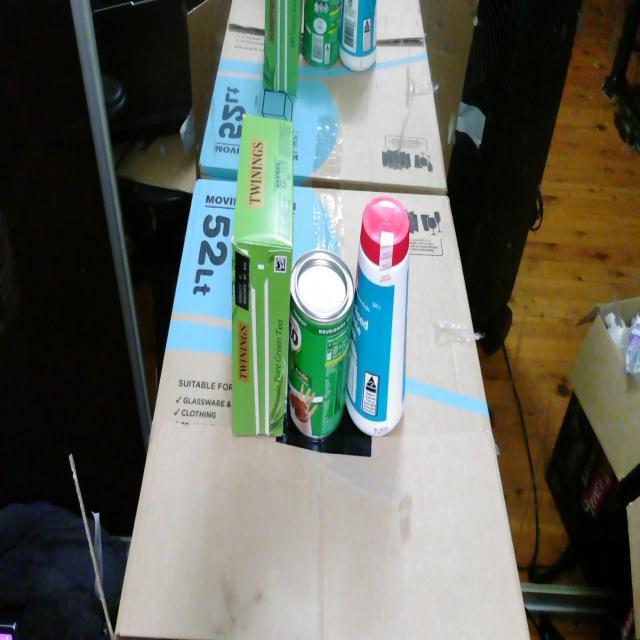nestle_milo_tin: (287, 248, 354, 440)
twinings_greentea_box: (231, 115, 293, 436)
woolworths_salt_bottle: (346, 196, 410, 436)
